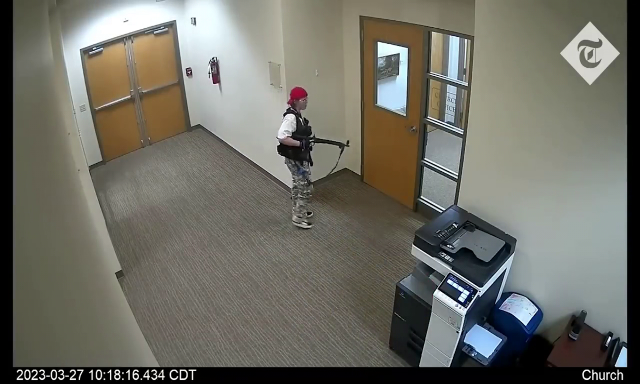Machine Guns: (275, 134, 357, 162)
